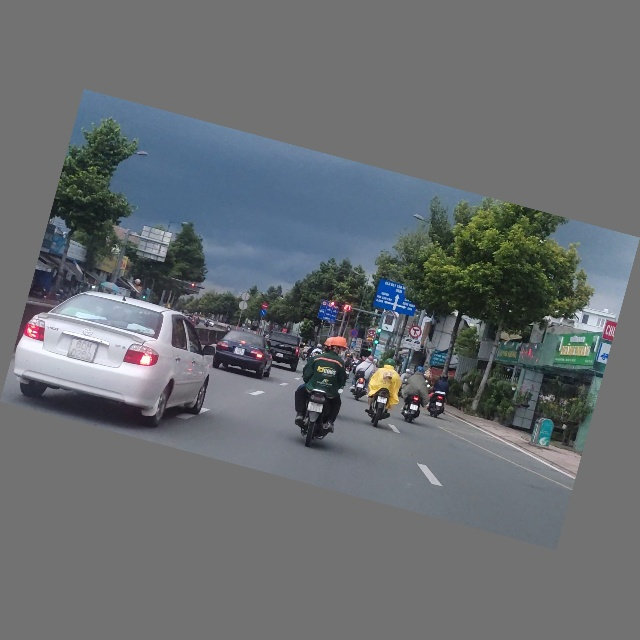P.102: (261, 303, 269, 311)
P.131a: (349, 330, 358, 338)
P.137: (408, 325, 423, 341)
R.302a: (259, 310, 267, 317)
R.415a: (317, 305, 339, 324)
